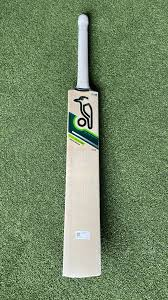bottom left: (57, 268, 69, 280)
bottom right: (92, 266, 107, 281)
top left: (62, 86, 74, 98)
top right: (93, 86, 105, 98)
